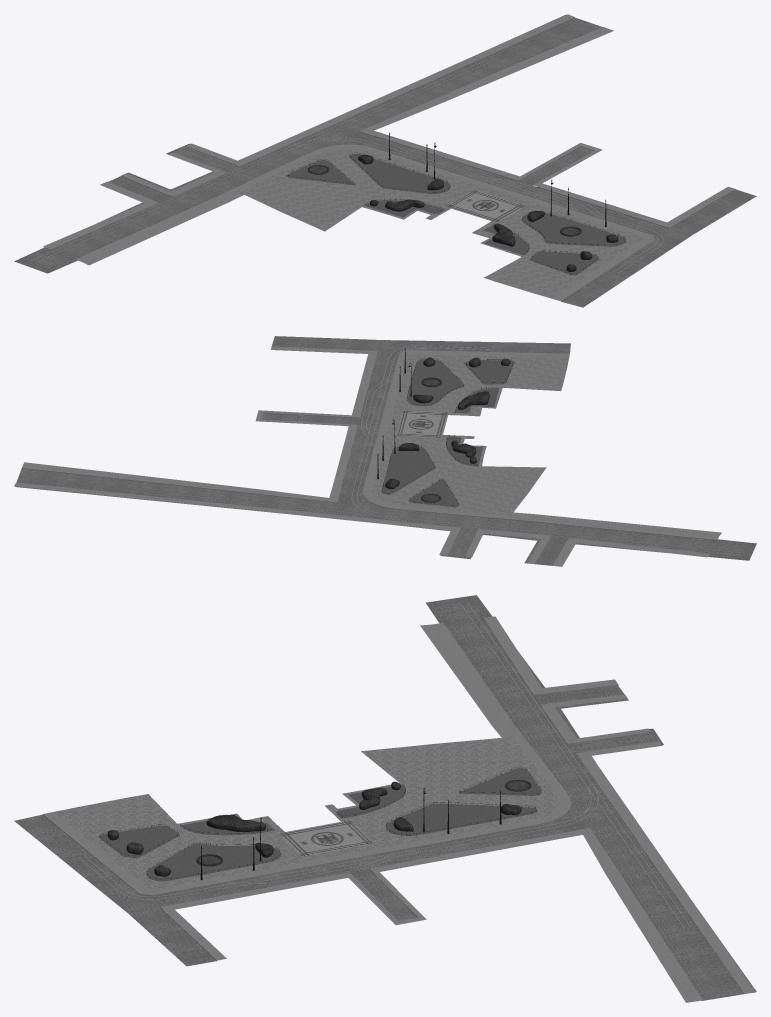
The model's file is Old_GSP_Floor_elements.FBX.
3 views of the same model, one above another, from view 1: azimuth 30°, elevation 25°; view 2: azimuth 150°, elevation 25°; view 3: azimuth 270°, elevation 25° (orthographic). The views are drawn at different scales.
Parts seen in each view (by area): view 1: Plane069, Plane067, pavement, Grass_A, hedges, Box1035, Plane056, Plane058; view 2: Plane069, Plane067, pavement, Grass_A, hedges, Box1035, Plane056, Plane103; view 3: Plane069, Plane067, pavement, Grass_A, hedges, Box1035, Plane056, Plane058.
Boxes of the visible parts, left/top/right/bottom form: Plane069: left=14, top=14, right=756, bottom=307; Plane067: left=43, top=14, right=735, bottom=301; pavement: left=239, top=149, right=642, bottom=298; Grass_A: left=286, top=154, right=626, bottom=275; hedges: left=308, top=154, right=618, bottom=271; Box1035: left=445, top=190, right=525, bottom=222; Plane056: left=182, top=61, right=488, bottom=195; Plane058: left=377, top=145, right=639, bottom=228; Plane069: left=15, top=336, right=756, bottom=565; Plane067: left=14, top=346, right=721, bottom=566; pavement: left=371, top=354, right=568, bottom=515; Grass_A: left=381, top=359, right=514, bottom=507; hedges: left=385, top=357, right=510, bottom=502; Box1035: left=396, top=410, right=448, bottom=437; Plane056: left=142, top=491, right=541, bottom=534; Plane103: left=541, top=532, right=740, bottom=555; Plane069: left=14, top=595, right=756, bottom=1000; Plane067: left=42, top=616, right=755, bottom=1002; pavement: left=54, top=736, right=558, bottom=889; Grass_A: left=99, top=768, right=541, bottom=881; hedges: left=107, top=779, right=531, bottom=876; Box1035: left=278, top=820, right=373, bottom=856; Plane056: left=535, top=711, right=690, bottom=928; Plane058: left=179, top=826, right=544, bottom=895.
Bounding box in the file's own units: 19519 × 1020 × 15010.
11 materials, 8 textured.
